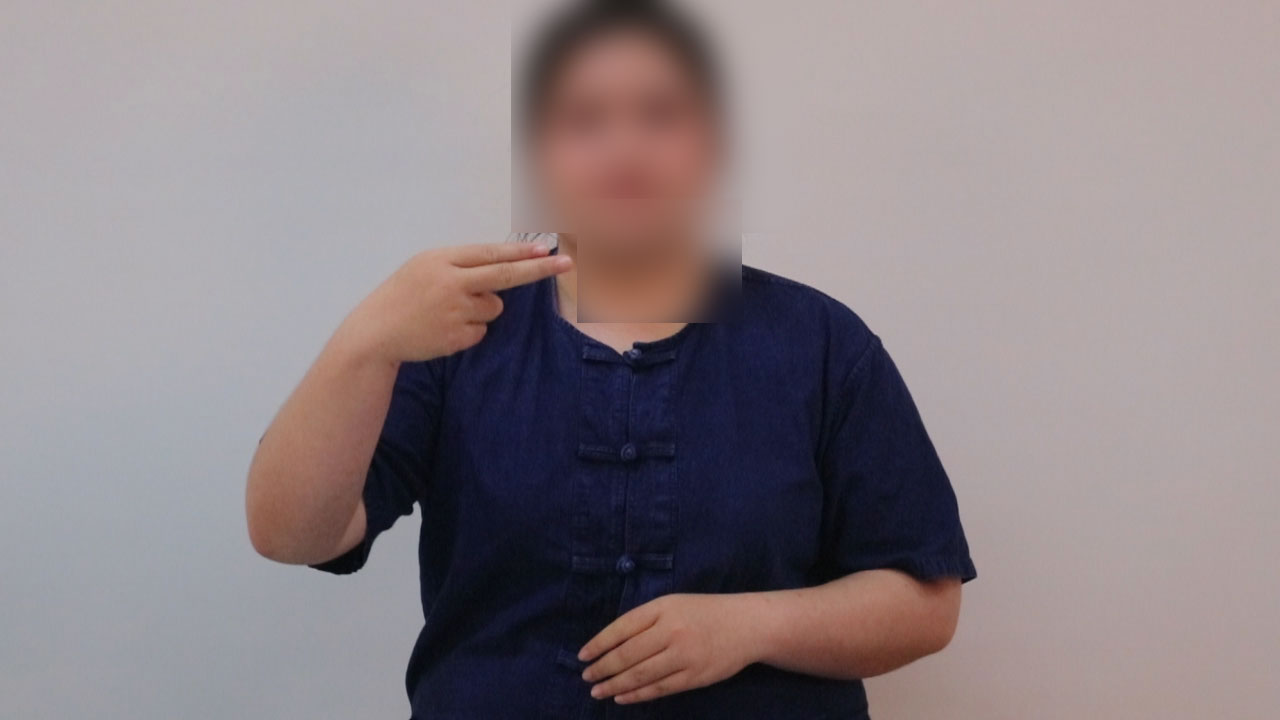hor: (331, 227, 589, 369)
